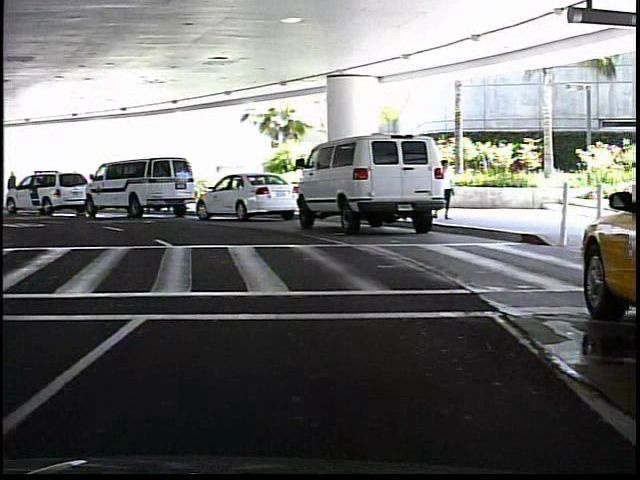person: (6, 169, 21, 214)
